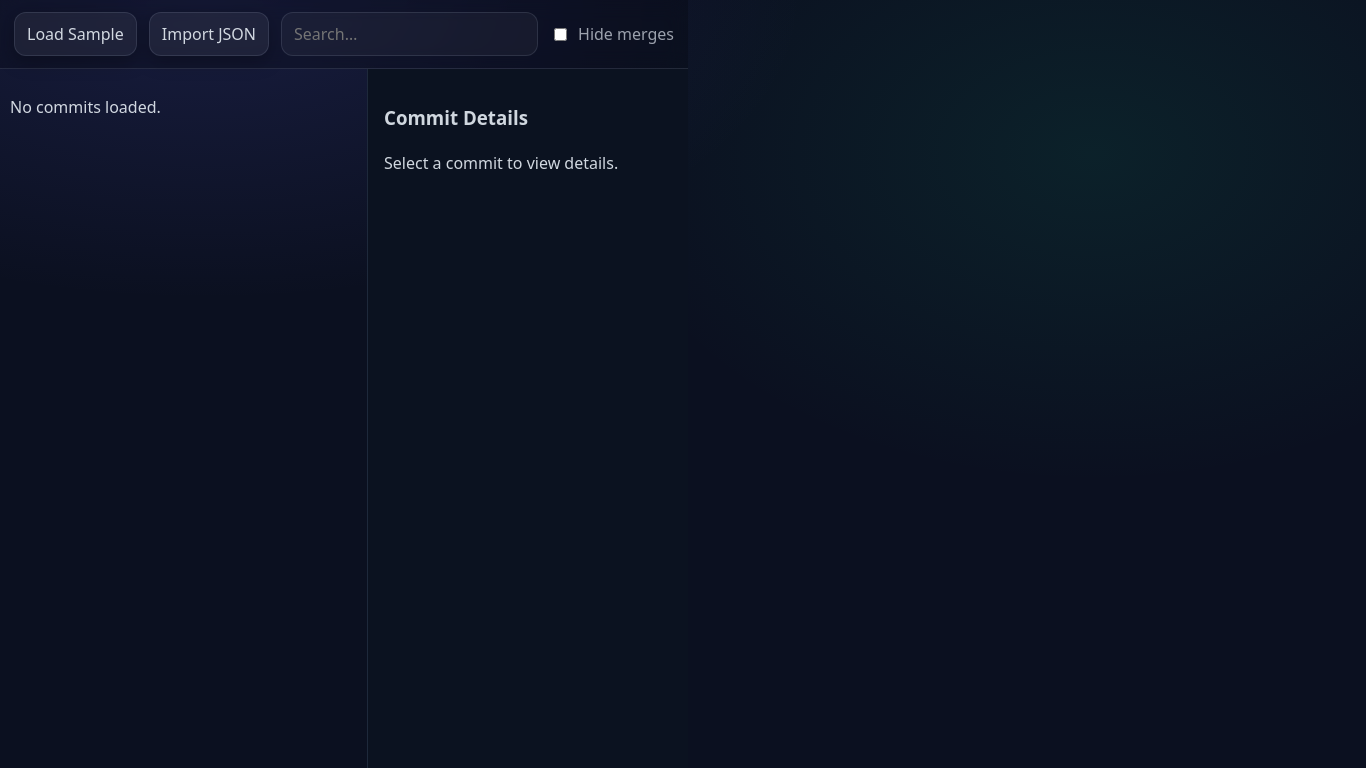
Test: App skeleton › selects a commit and shows details
Click the button "Load Sample" at (75, 34), box left=14, top=12, right=137, bottom=56
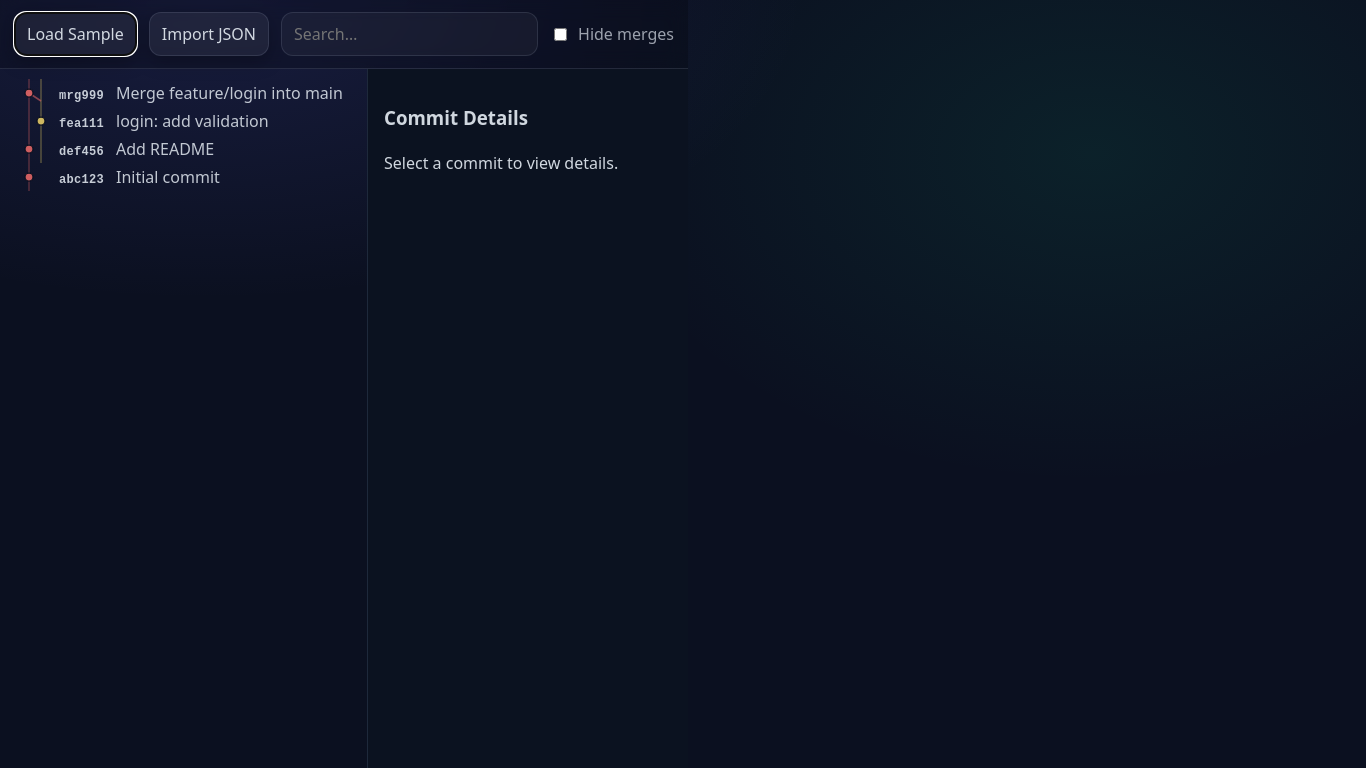
Click the text "def456" at (82, 152), box left=59, top=143, right=104, bottom=161
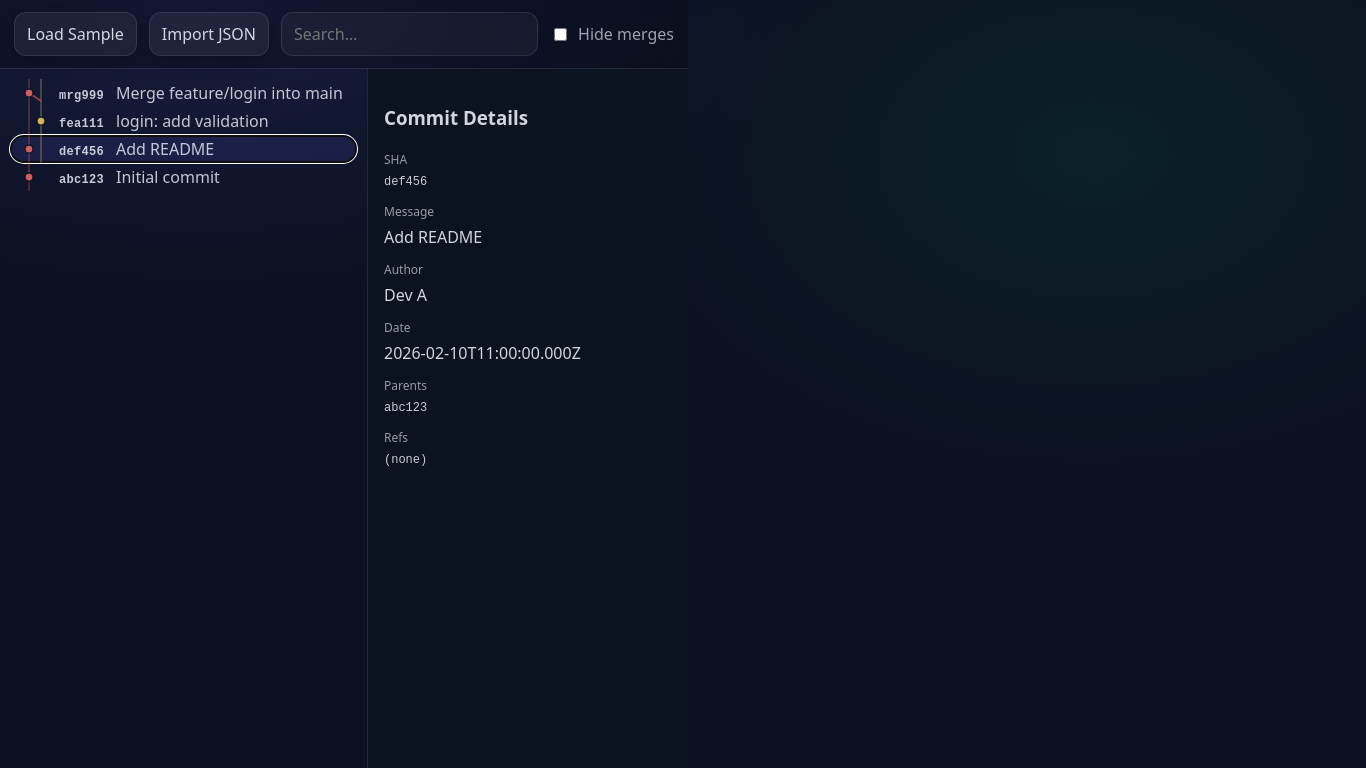
Expected: the text "SHA" is shown, left=384, top=150, right=407, bottom=168
Expected: the text "def456" below "SHA" is shown, left=384, top=174, right=427, bottom=188
Expected: the text "Add README" below "Message" is shown, left=384, top=226, right=482, bottom=248
